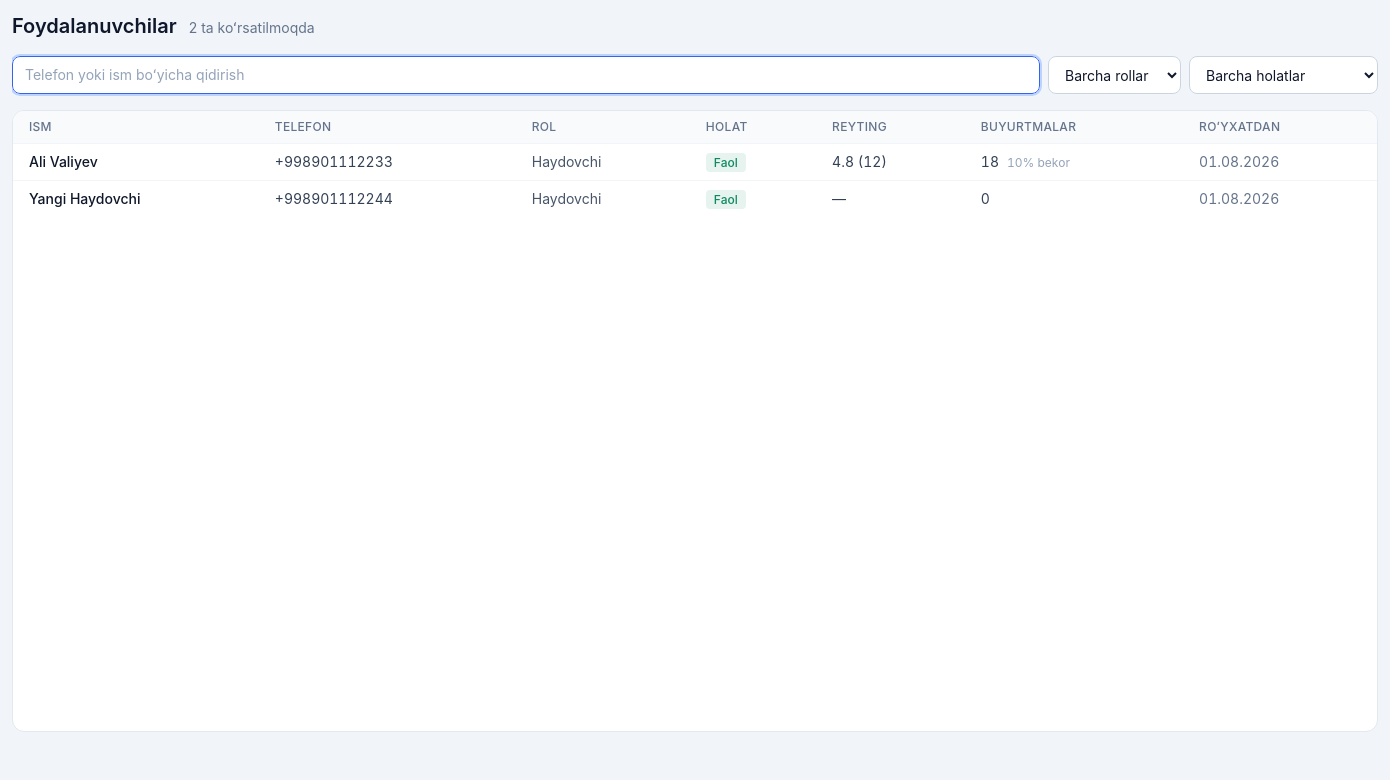
Test: UsersPage › ★ OQIBAT OGOHLANTIRISHDA AYTILADI
The image size is (1390, 780).
What coordinates should you click on to do the following:
click the text "Ali Valiyev"
I would click on:
 (63, 162)
Its box is [13,144,259,180].
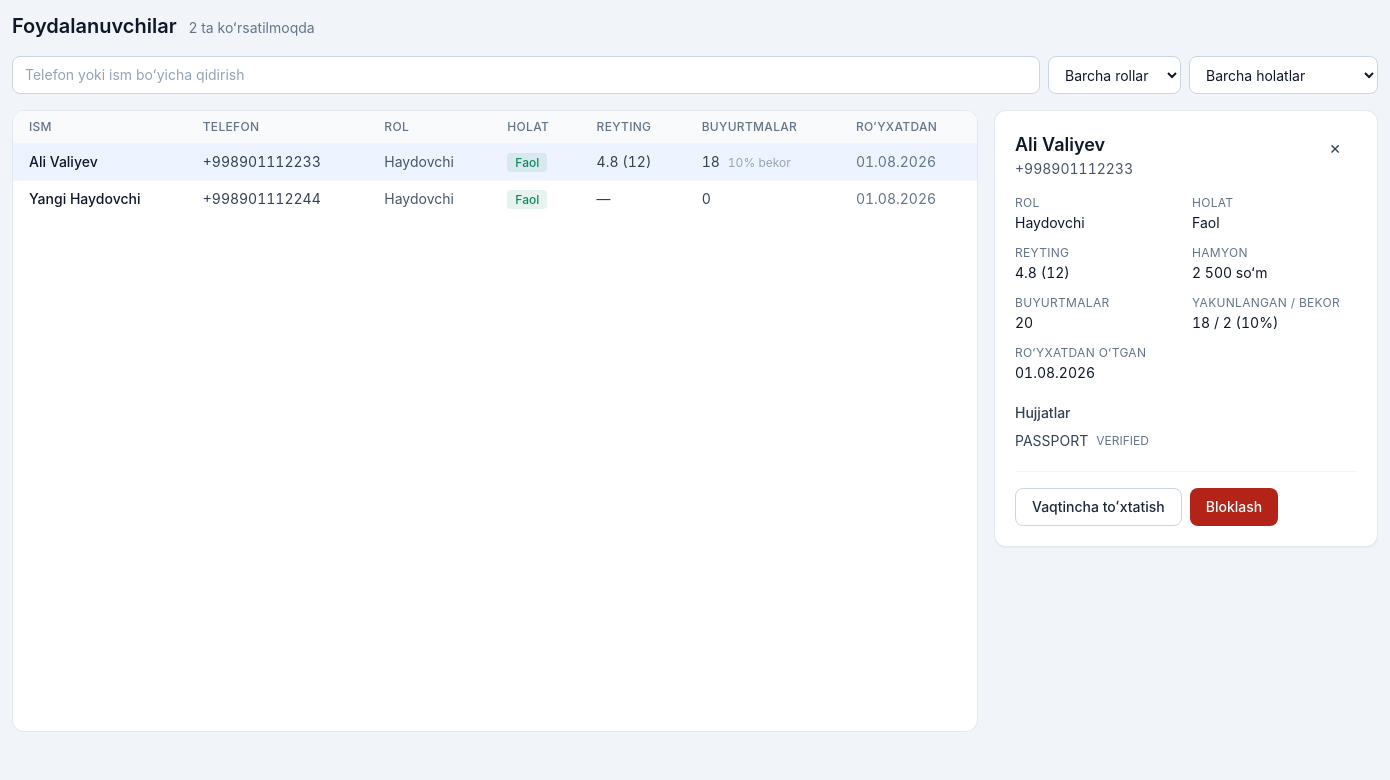
What coordinates should you click on to do the following:
click the button "Bloklash"
I would click on:
 (1234, 507)
Its box is [1190,488,1278,526].
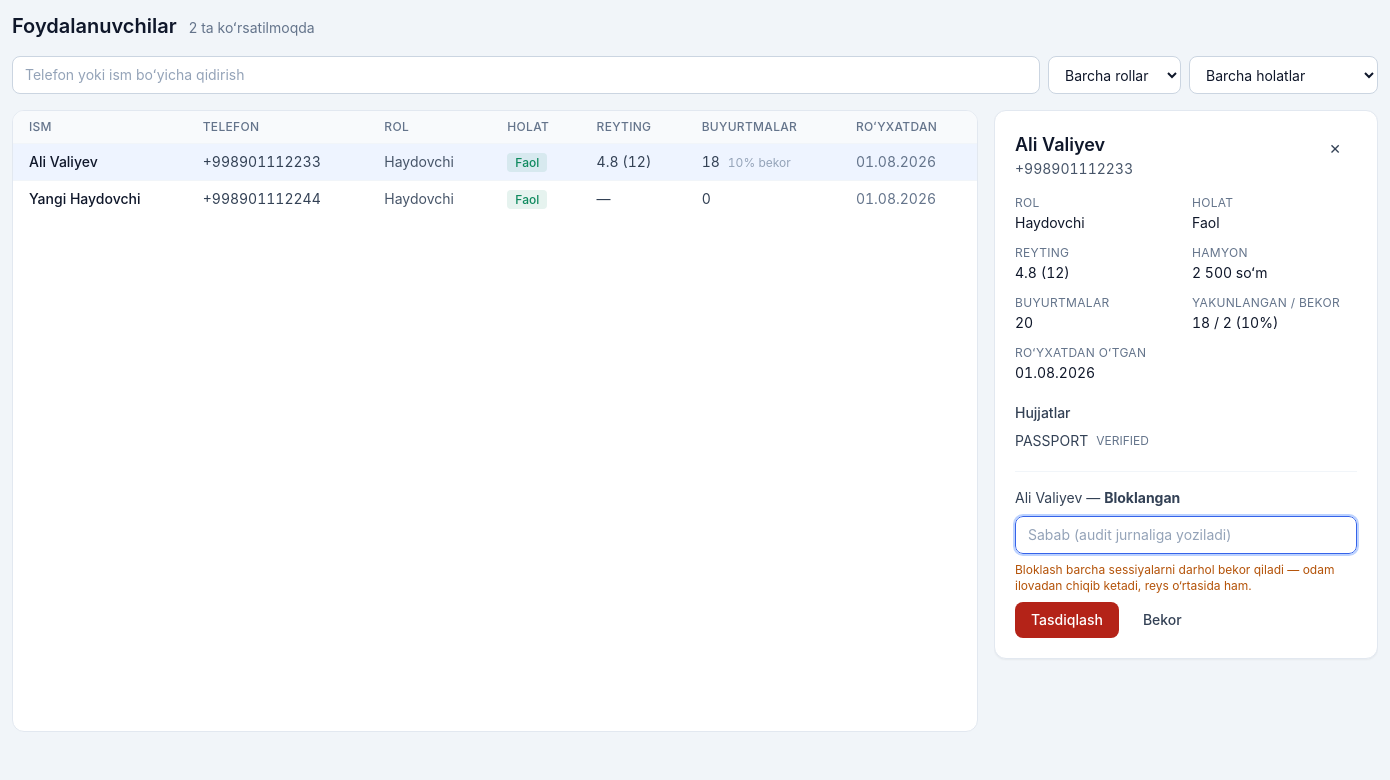
Check: the text "reys o‘rtasida ham" is shown, box [1015,562,1334,593]
Check: the element showing "Ali Valiyev — Bloklangan" is shown, box [1015,489,1180,506]
